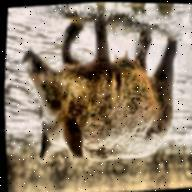boar: (14, 6, 188, 171)
